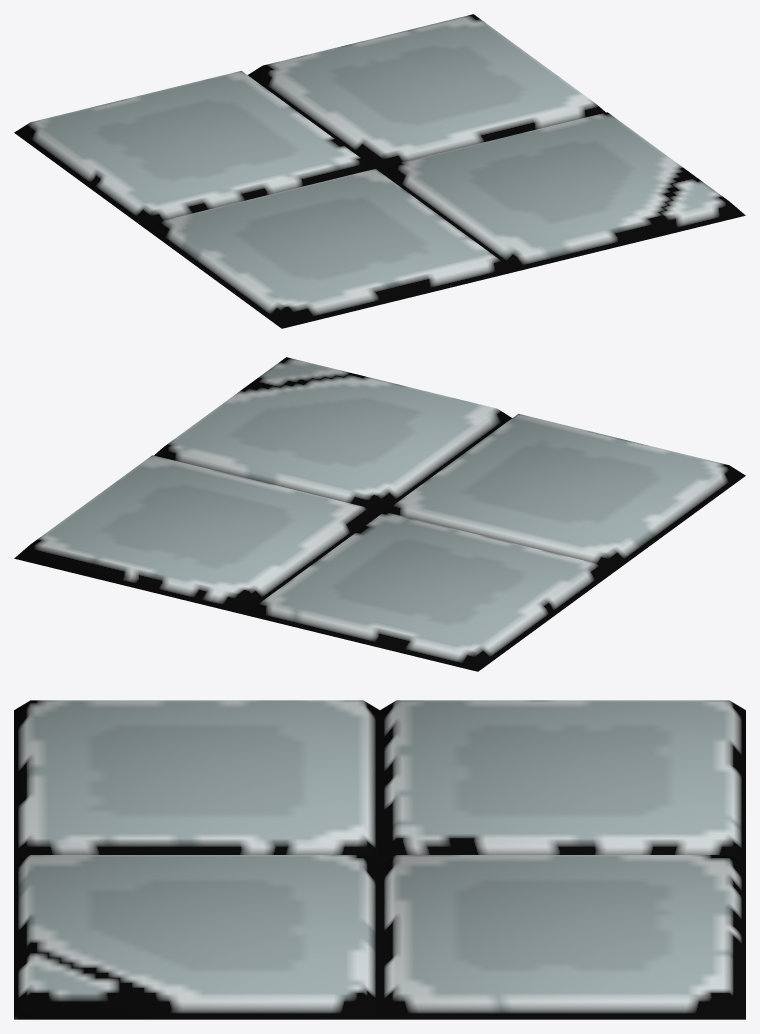
Rendered from deco_winter_groundTiles.FBX.
3 views of the same model, one above another, from view 1: azimuth 30°, elevation 25°; view 2: azimuth 150°, elevation 25°; view 3: azimuth 270°, elevation 25° (orthographic). The views are drawn at different scales.
Visible parts, largest first — view 1: deco_winter_groundTiles; view 2: deco_winter_groundTiles; view 3: deco_winter_groundTiles.
Boxes of the visible parts, x1=… form: deco_winter_groundTiles: x1=14, y1=14, x2=745, y2=328; deco_winter_groundTiles: x1=14, y1=357, x2=745, y2=671; deco_winter_groundTiles: x1=14, y1=700, x2=745, y2=1019.
Bounding box in the file's own units: 2 × 0.051 × 2.
1 material, 1 textured.
